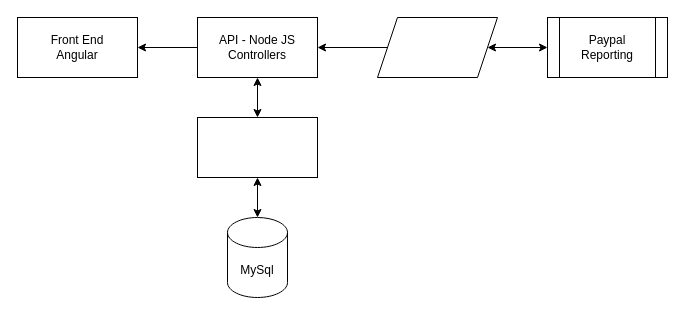
This 685x315 diagram has some shape labels left out. The box of each missing label's shape, as (x1, y1, x2, y2) in pixels:
CRON Job Daily pull from Paypal: (376, 16, 498, 78)
Type ORM Database Access: (196, 116, 318, 178)
